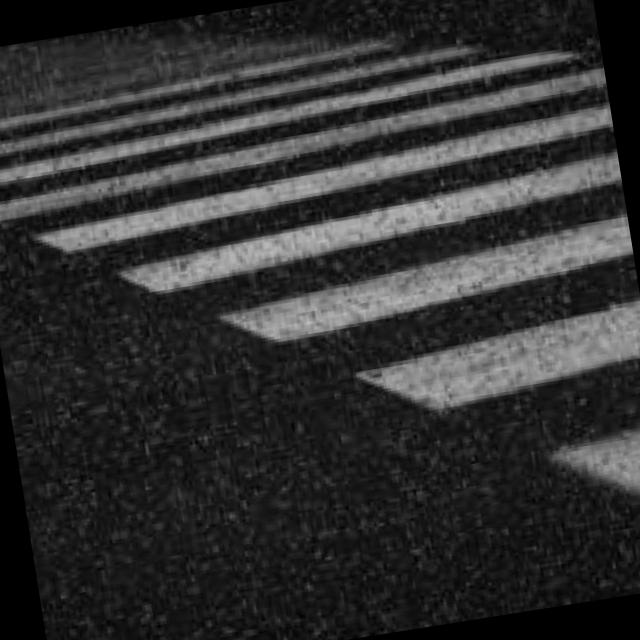zebra: (0, 0, 640, 621)
